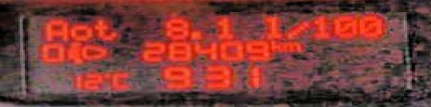-: (187, 29, 205, 39)
0: (37, 42, 67, 63), (216, 41, 244, 61), (358, 14, 382, 37), (332, 15, 356, 37)
1: (212, 16, 233, 39), (244, 64, 263, 88), (311, 14, 329, 38), (68, 73, 80, 88)
2: (136, 40, 166, 61), (80, 72, 101, 89)
3: (200, 64, 232, 89)
4: (190, 41, 215, 60)
8: (159, 16, 189, 39), (164, 41, 190, 61)
9: (160, 64, 194, 89), (244, 40, 270, 60)
X: (41, 16, 68, 41), (89, 17, 117, 40), (257, 15, 281, 39), (281, 20, 311, 37), (67, 22, 93, 40), (111, 71, 132, 89), (280, 40, 304, 51), (267, 40, 281, 51)
